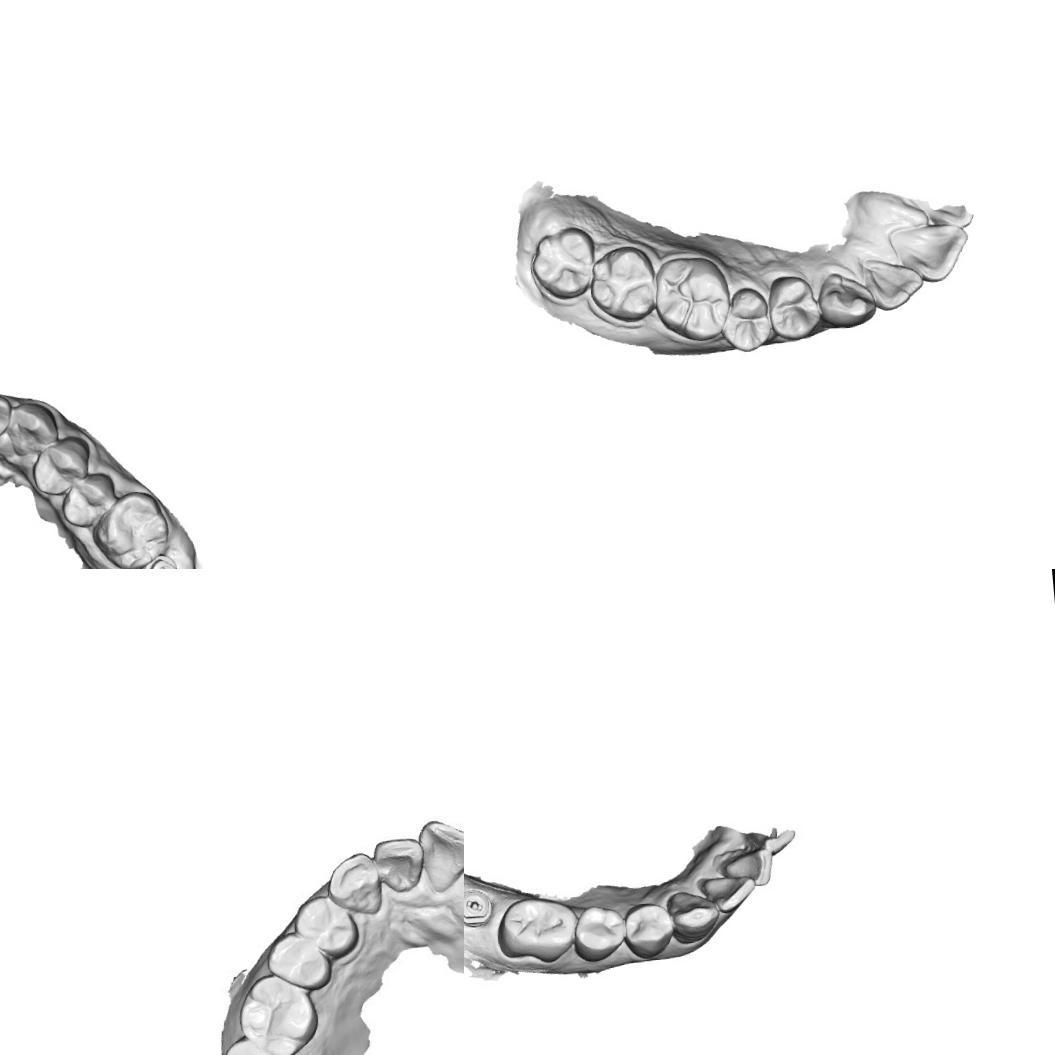canine: (322, 850, 387, 918), (815, 266, 876, 331), (664, 886, 722, 946), (4, 398, 60, 460)
implant_minus: (464, 885, 494, 928), (142, 551, 180, 569)
incisor: (884, 214, 974, 287), (861, 252, 925, 314), (415, 819, 464, 889), (373, 838, 425, 892), (699, 874, 758, 916), (720, 845, 776, 889), (744, 825, 797, 856), (0, 384, 13, 444)
molar: (650, 252, 732, 346), (492, 892, 582, 968), (88, 487, 171, 569), (584, 240, 659, 326), (526, 223, 596, 304), (237, 978, 309, 1050), (211, 1035, 303, 1055)
premolar: (27, 431, 95, 497), (764, 271, 824, 344), (717, 282, 774, 356), (294, 894, 358, 957), (57, 470, 119, 530), (569, 902, 628, 965), (621, 899, 677, 960), (271, 934, 330, 988)
